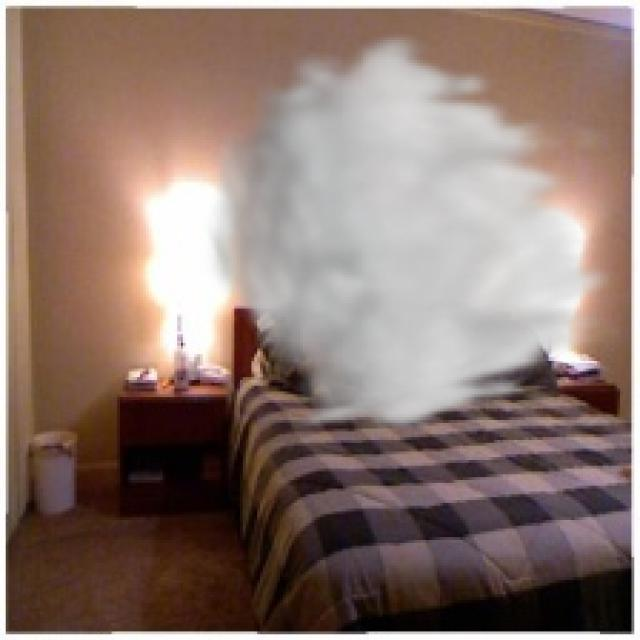Smoke: (200, 28, 626, 434)
